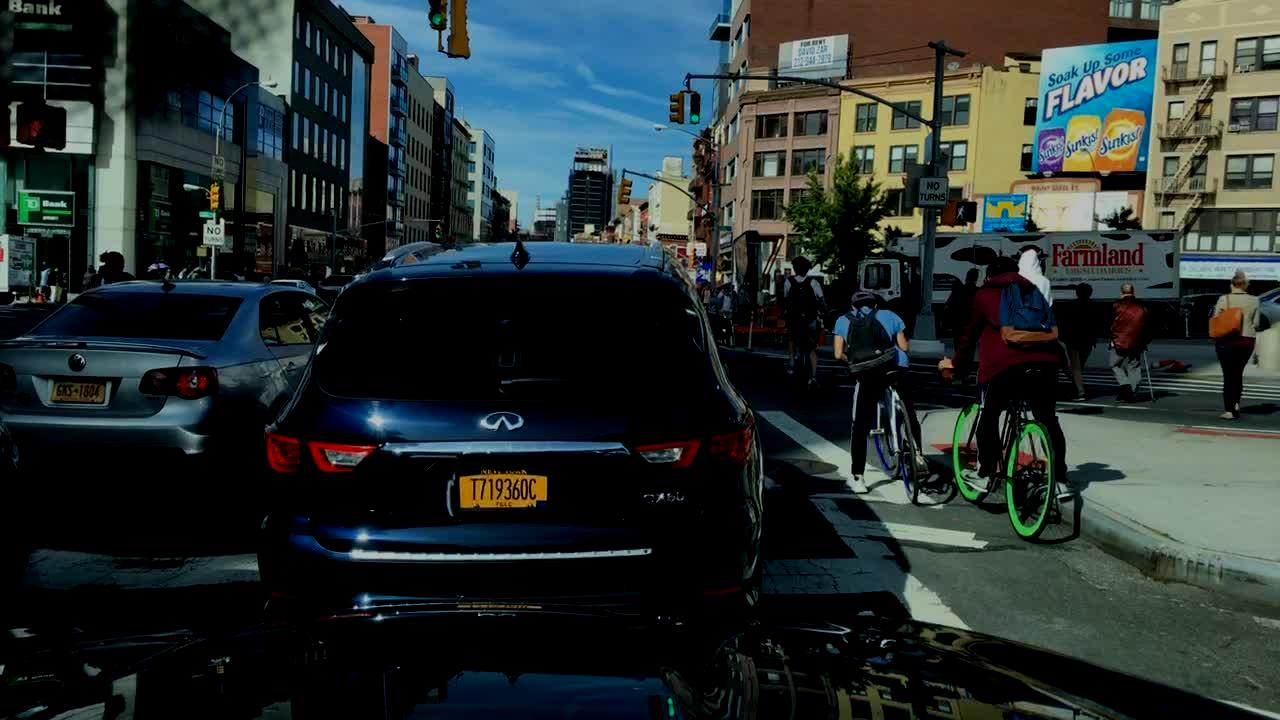Infiniti: (475, 404, 527, 436)
